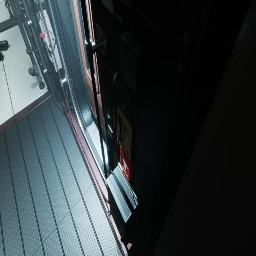EmergencyPhone ,: (113, 93, 135, 162)
FireAlarm ,: (120, 145, 133, 182)
SafetySwitchPanel ,: (33, 1, 62, 72)
